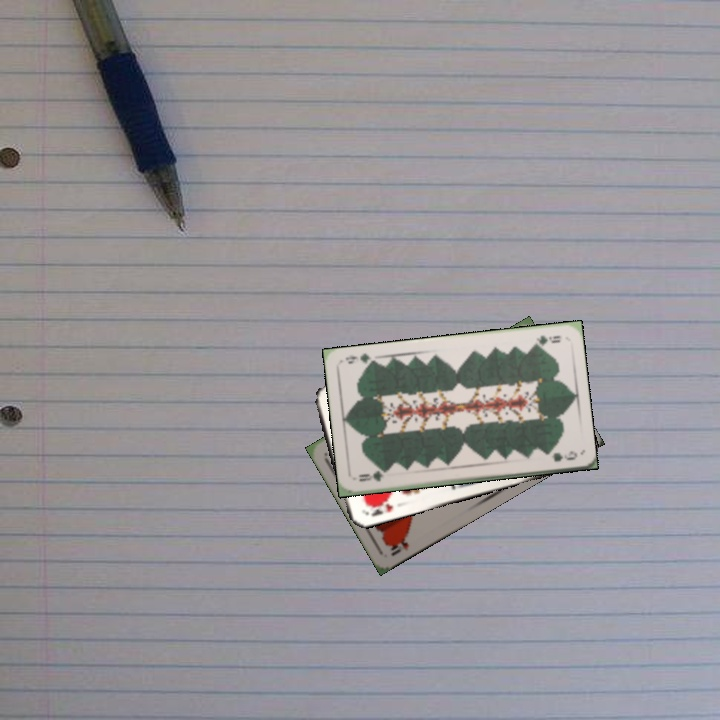G9: (527, 331, 563, 349), (354, 467, 390, 484)
HK: (361, 496, 395, 519)
HO: (384, 532, 411, 558)
